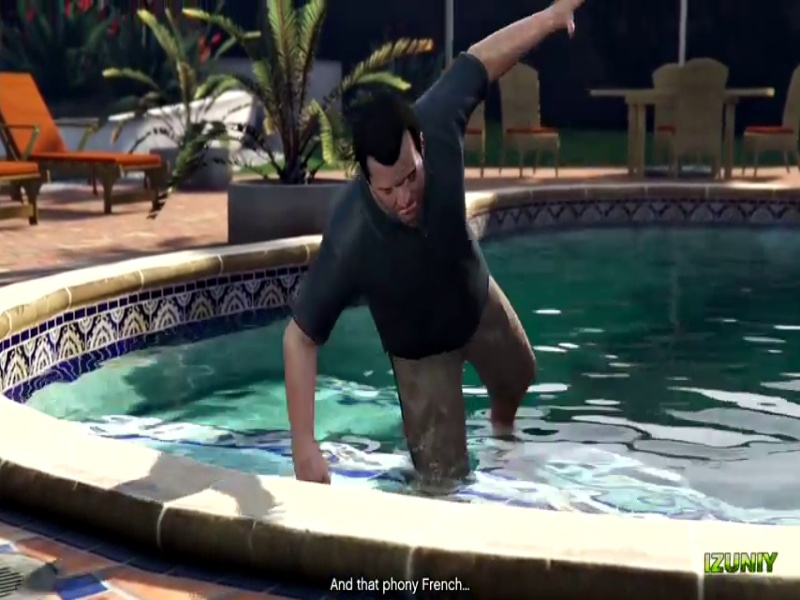human: (280, 24, 547, 497)
